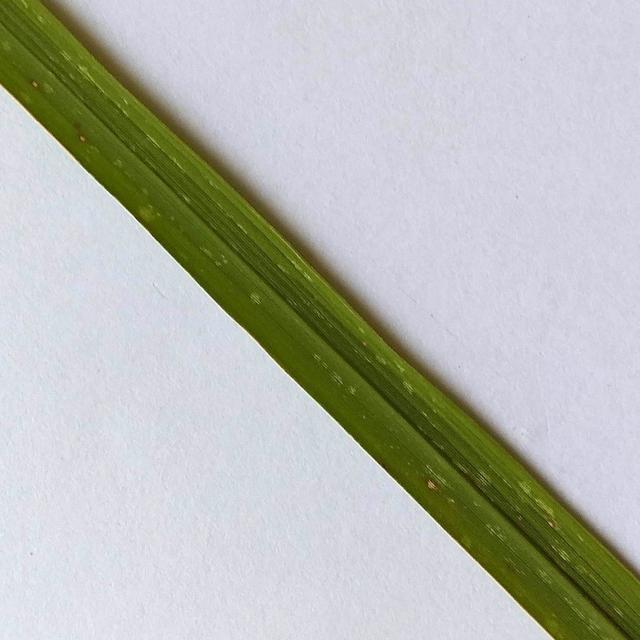Blast: (24, 72, 50, 92), (421, 474, 442, 496), (73, 132, 95, 148)
